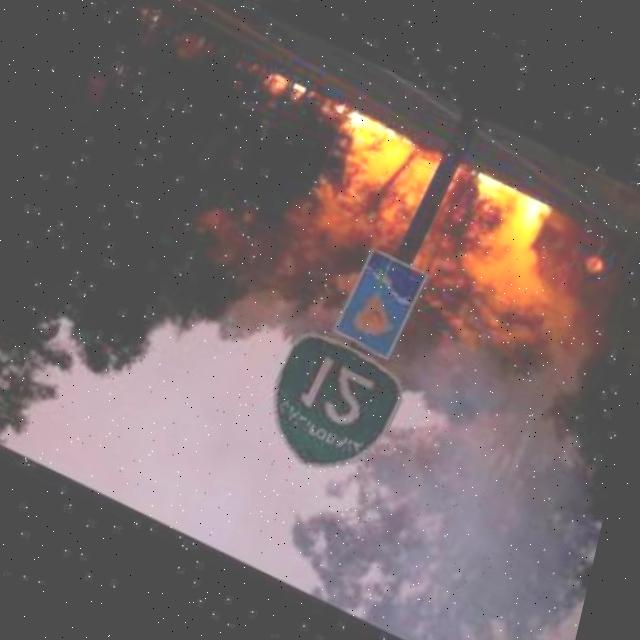fire: (259, 101, 603, 376)
